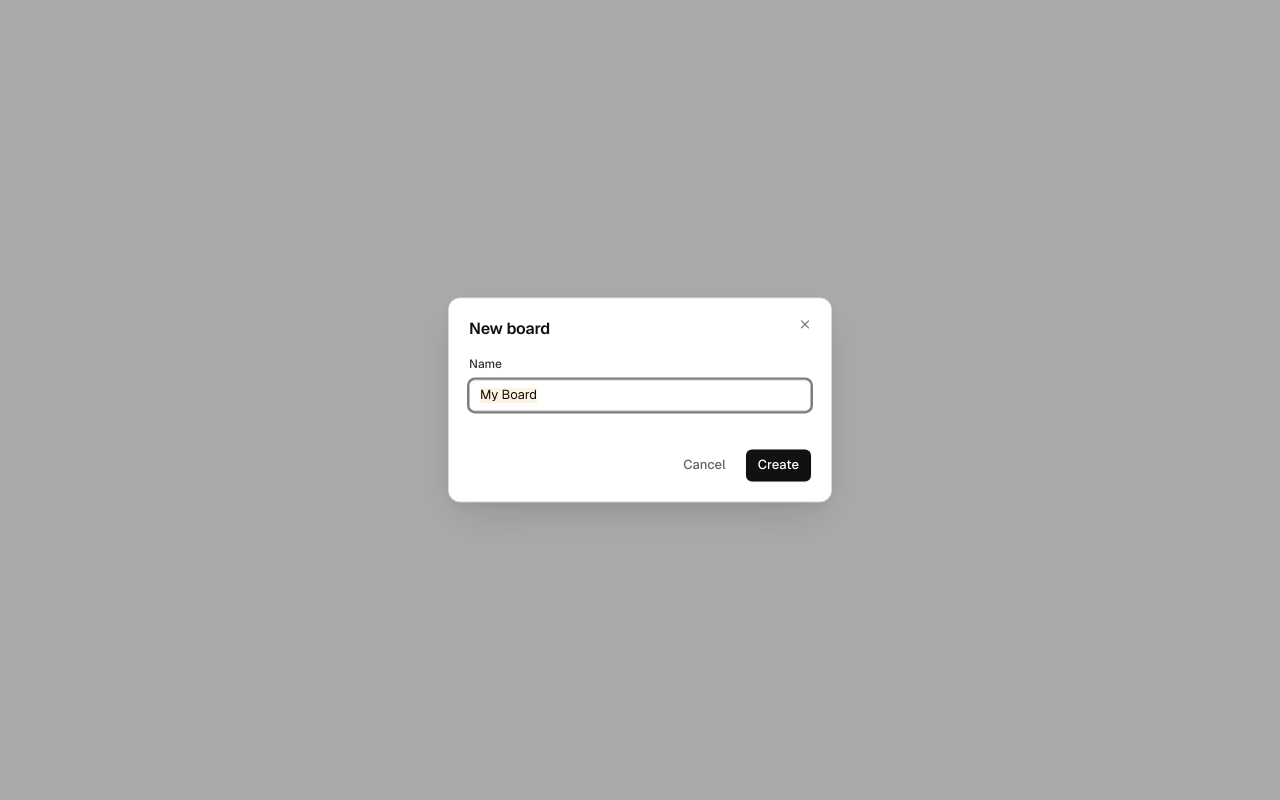
Test case: NewBoardDialog › says so when the board limit is reached
Click the button "Create" at (778, 466), box [746, 450, 811, 482]
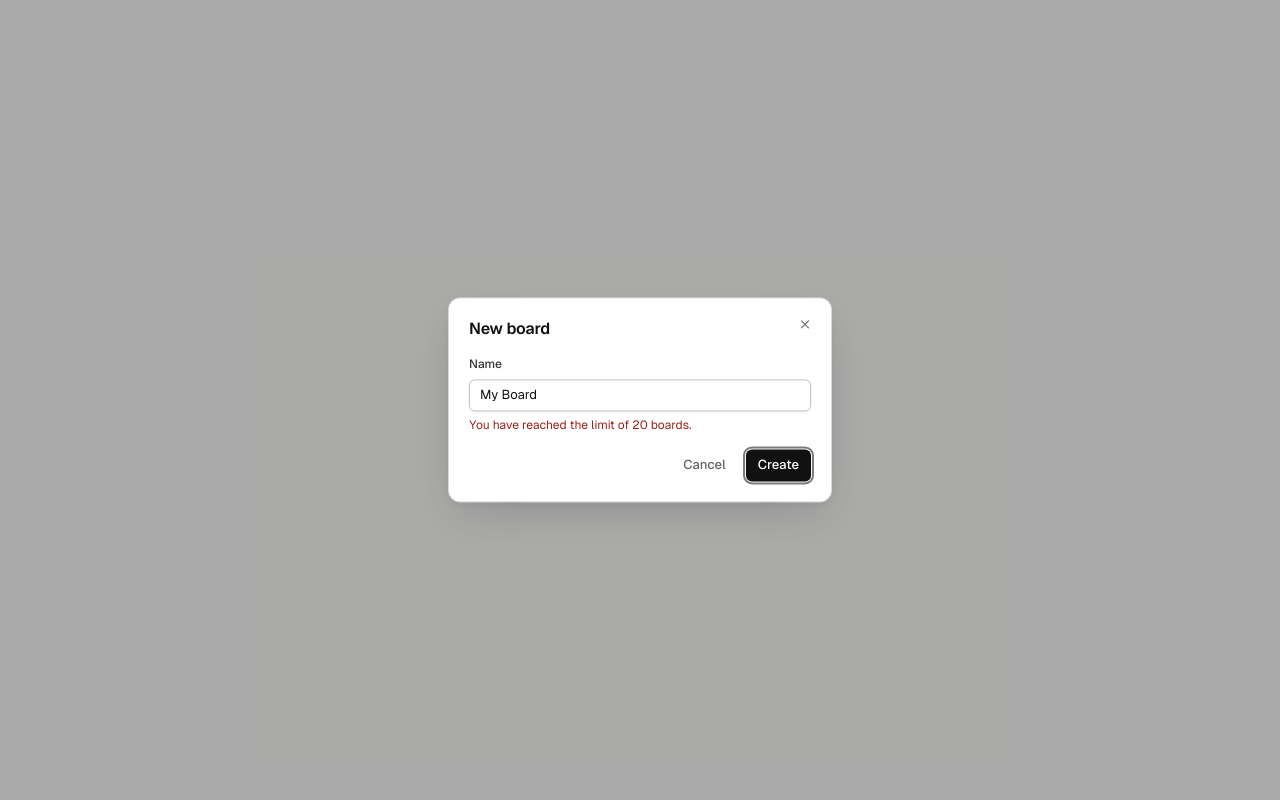
Check: the message reads "You have reached the limit of 20 boards.", box [469, 419, 692, 433]
